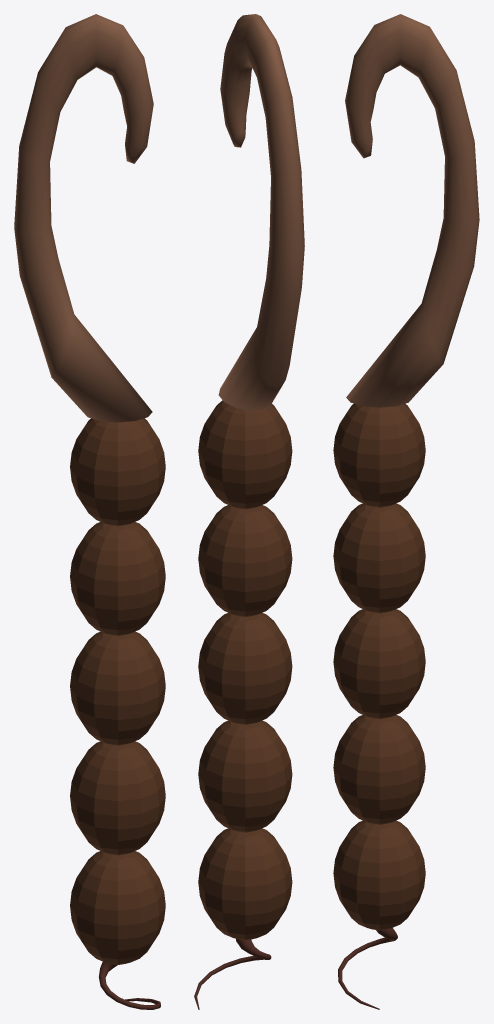
Rendered from Wand 289.glb.
3 renders of one model, left to right at view 1: azimuth 90°, elevation 25°; view 2: azimuth 210°, elevation 25°; view 3: azimuth 270°, elevation 25°, orthographic. The views are drawn at different scales.
Visible parts, largest first — view 1: GeneratedWand; view 2: GeneratedWand; view 3: GeneratedWand.
Boxes of the visible parts, x1,y1,x2,y2 form: GeneratedWand: [14, 14, 165, 1009]; GeneratedWand: [194, 14, 304, 1009]; GeneratedWand: [333, 14, 479, 1009].
Size of the model in its own units: 0.0481 by 0.5223 by 0.0711.
